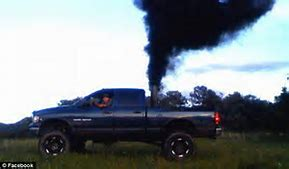smoke: (133, 1, 274, 86)
